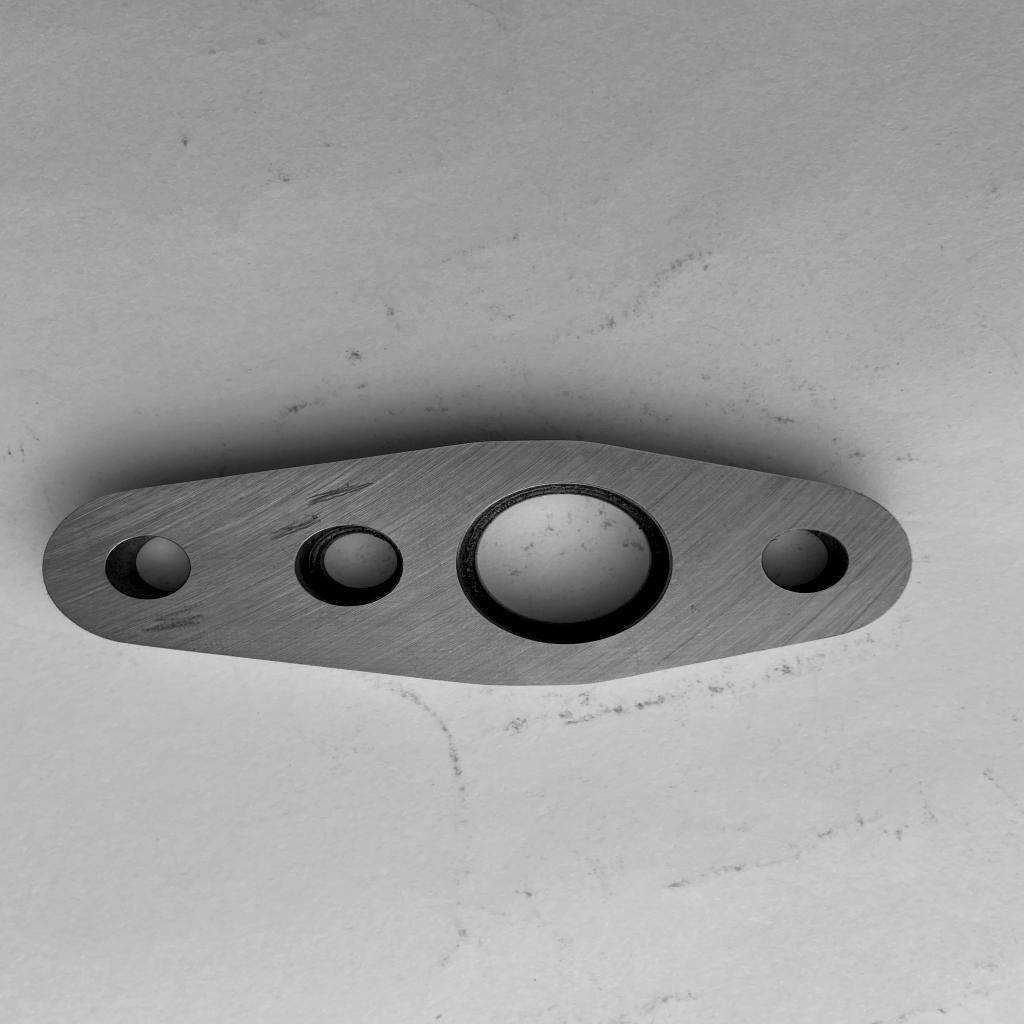lines: (301, 478, 377, 508), (134, 614, 208, 634), (278, 516, 315, 536)
